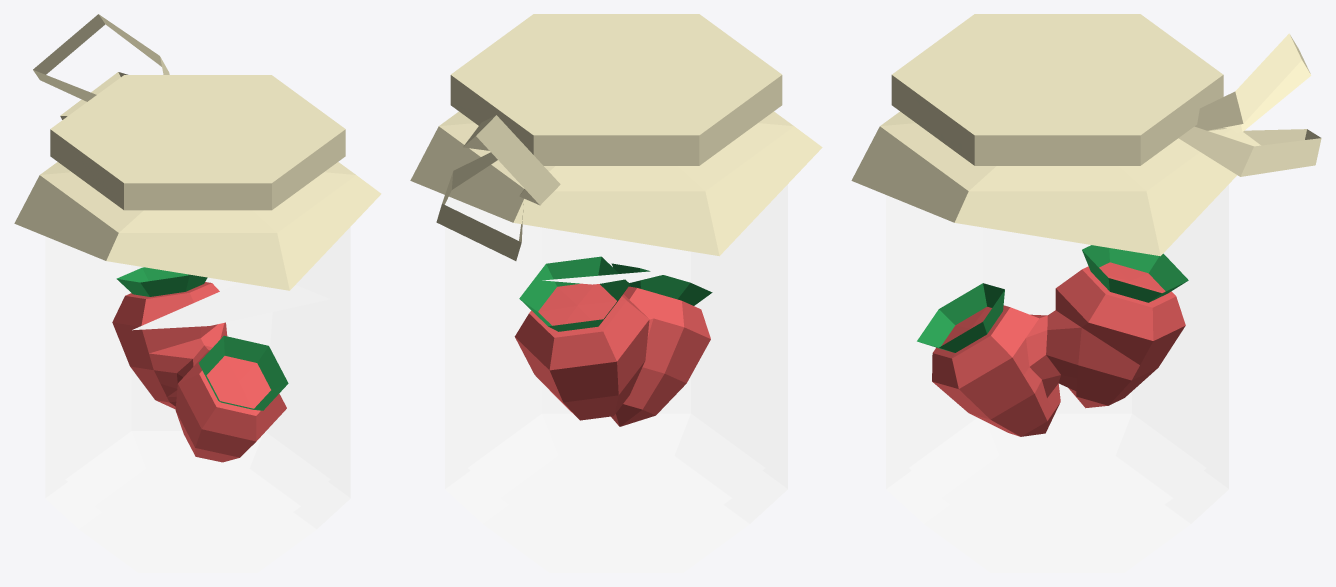
File: JamJam.glb
3 renders of one model, left to right at view 1: azimuth 30°, elevation 25°; view 2: azimuth 150°, elevation 25°; view 3: azimuth 270°, elevation 25°, orthographic. The views are drawn at different scales.
Visible parts, largest first — view 1: lid, jam, jar, strawberries; view 2: lid, jam, jar, strawberries; view 3: lid, jam, strawberries, jar.
Part boxes in pixels (box(x1,y1,x2,y2)): lid: box(14, 14, 381, 290); jam: box(65, 248, 330, 543); jar: box(45, 227, 350, 572); strawberries: box(112, 267, 288, 462); lid: box(410, 14, 822, 260); jam: box(467, 223, 765, 540); jar: box(445, 184, 787, 572); strawberries: box(514, 256, 712, 426); lid: box(851, 14, 1321, 256); jam: box(908, 204, 1206, 540); strawberries: box(917, 245, 1188, 436); jar: box(886, 184, 1228, 572).
Size of the model in its own units: 11.44 by 17.43 by 15.07.
